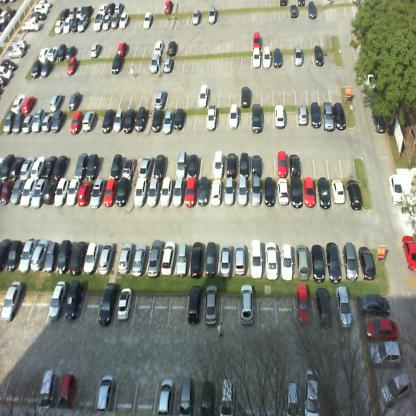car: (96, 281, 120, 329), (0, 280, 24, 322), (381, 369, 407, 406), (369, 343, 403, 370), (314, 283, 334, 328), (365, 317, 399, 342), (48, 279, 66, 324), (336, 284, 352, 330), (326, 238, 342, 284), (57, 371, 76, 409), (186, 282, 202, 327), (66, 280, 84, 320), (342, 239, 359, 281), (309, 240, 326, 282), (358, 294, 390, 316), (96, 372, 115, 408), (239, 282, 254, 327), (39, 368, 55, 410), (146, 238, 162, 280), (358, 244, 376, 281), (249, 237, 264, 281), (19, 237, 36, 275), (304, 366, 319, 409), (30, 239, 48, 274), (294, 243, 310, 282), (116, 284, 132, 322), (264, 241, 279, 281), (296, 282, 309, 328), (42, 242, 59, 277), (68, 242, 86, 275), (219, 373, 235, 410), (56, 239, 72, 276), (204, 283, 218, 325), (98, 242, 115, 276), (345, 178, 362, 212), (88, 177, 105, 210), (284, 376, 300, 411), (389, 170, 404, 207), (6, 240, 23, 272), (200, 377, 215, 413), (401, 233, 415, 271), (233, 240, 247, 277), (190, 241, 204, 278), (174, 241, 188, 278), (160, 243, 175, 277), (132, 244, 147, 278), (84, 242, 99, 276), (118, 242, 133, 275), (179, 371, 192, 409), (20, 178, 37, 207), (370, 103, 387, 132), (115, 177, 130, 209), (53, 177, 69, 207), (159, 376, 173, 410), (133, 175, 147, 209), (146, 178, 161, 209), (30, 179, 46, 208), (317, 175, 330, 210), (282, 240, 293, 281), (76, 180, 92, 208), (303, 175, 316, 209), (289, 176, 302, 209), (322, 99, 335, 132), (104, 178, 118, 208), (66, 178, 80, 208), (250, 103, 264, 133), (8, 180, 24, 206), (220, 243, 232, 277), (174, 149, 187, 180), (172, 176, 184, 209), (276, 178, 290, 206), (206, 238, 216, 277), (331, 180, 346, 206), (212, 150, 225, 180), (84, 154, 99, 180), (52, 154, 67, 180), (30, 108, 45, 134), (333, 100, 346, 129), (108, 154, 123, 179), (250, 177, 262, 208), (186, 154, 199, 182), (74, 152, 88, 178), (122, 108, 135, 136), (101, 107, 115, 133), (0, 236, 10, 272), (236, 176, 248, 206), (198, 176, 210, 206), (185, 177, 197, 207), (160, 176, 172, 206), (264, 174, 275, 206), (43, 179, 56, 206), (161, 109, 174, 136), (111, 106, 124, 133), (152, 155, 166, 180), (139, 154, 153, 179), (225, 150, 237, 179), (42, 156, 57, 179), (0, 178, 13, 204), (70, 110, 83, 136), (20, 156, 36, 177), (9, 156, 23, 180), (362, 66, 376, 90), (224, 177, 235, 207), (277, 148, 288, 178), (239, 149, 250, 179), (1, 111, 16, 133), (152, 108, 164, 135), (67, 90, 81, 113), (228, 101, 239, 130), (297, 102, 309, 128), (274, 103, 286, 129), (134, 107, 146, 133), (83, 110, 96, 134), (52, 109, 64, 135), (211, 177, 222, 205), (251, 152, 263, 177), (174, 107, 186, 132), (122, 156, 135, 179), (1, 155, 14, 178), (109, 54, 122, 77), (207, 103, 217, 132), (32, 156, 45, 178), (22, 112, 35, 134), (12, 112, 25, 134), (154, 89, 166, 112), (21, 95, 35, 114), (289, 152, 301, 174), (240, 84, 251, 108), (311, 102, 321, 128), (198, 84, 208, 110), (315, 42, 325, 68), (66, 56, 78, 77), (294, 42, 304, 67), (11, 94, 24, 113), (21, 19, 40, 32), (250, 47, 261, 69), (50, 92, 62, 112), (262, 46, 272, 70), (56, 43, 68, 63), (43, 113, 54, 134), (272, 47, 283, 68), (40, 61, 52, 79), (31, 60, 41, 81), (3, 57, 18, 71), (92, 12, 102, 33), (89, 42, 100, 61), (0, 64, 13, 80), (76, 15, 88, 32), (162, 0, 174, 17), (151, 53, 160, 75), (64, 44, 75, 62), (52, 18, 63, 36), (306, 2, 318, 18), (38, 46, 48, 65), (253, 30, 262, 50), (154, 38, 163, 58), (118, 40, 128, 58), (62, 16, 72, 34), (100, 12, 110, 30), (142, 12, 152, 30), (206, 5, 216, 23), (290, 4, 300, 22), (9, 49, 25, 60), (119, 10, 128, 29), (48, 45, 58, 62), (167, 39, 176, 57), (191, 8, 200, 26), (163, 57, 172, 74), (13, 40, 28, 50), (70, 16, 80, 31), (110, 12, 119, 28), (83, 5, 94, 17), (60, 5, 70, 18), (30, 11, 46, 19), (98, 2, 108, 14), (37, 0, 52, 8), (33, 5, 49, 12), (76, 3, 84, 17), (107, 1, 115, 15), (114, 1, 123, 13), (0, 75, 8, 88), (69, 5, 77, 17), (278, 0, 289, 8), (297, 0, 306, 7)
